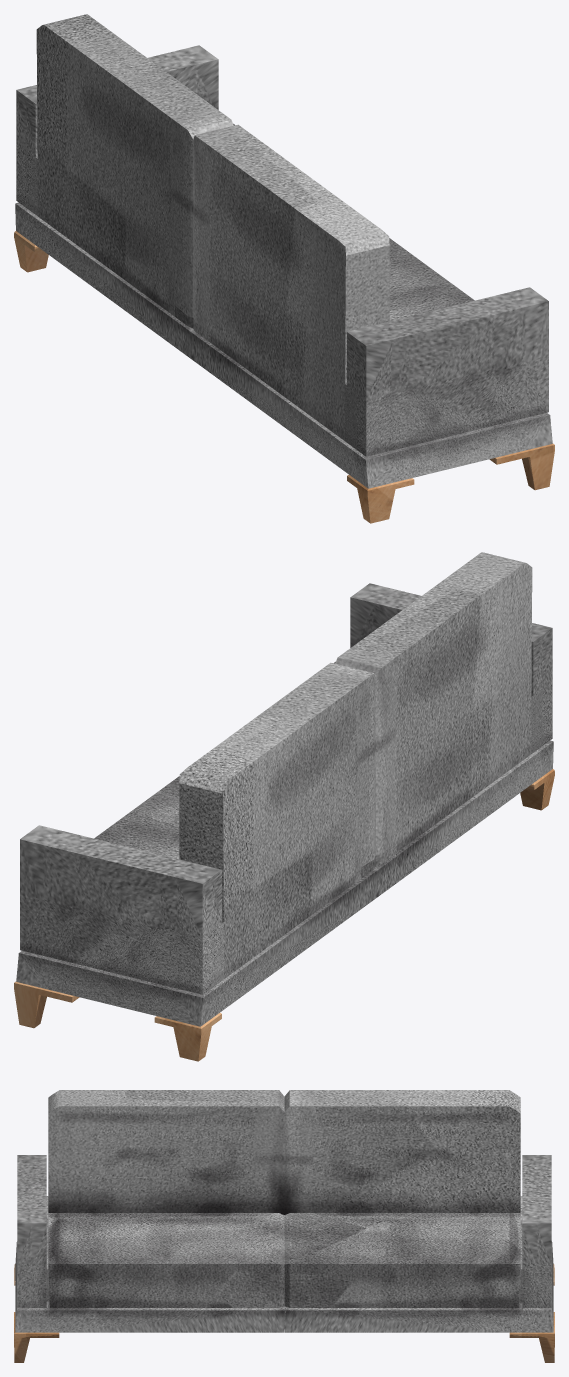
File: sofaObj.fbx
3 renders of one model, top to bottom at view 1: azimuth 30°, elevation 25°; view 2: azimuth 150°, elevation 25°; view 3: azimuth 270°, elevation 25°, orthographic. The views are drawn at different scales.
Parts seen in each view (by area): view 1: low poly; view 2: low poly; view 3: low poly.
Boxes of the visible parts, x1,y1,x2,y2 form: low poly: (14,14,554,523); low poly: (14,552,554,1061); low poly: (14,1090,554,1362).
Size of the model in its own units: 268 by 367 by 877.
